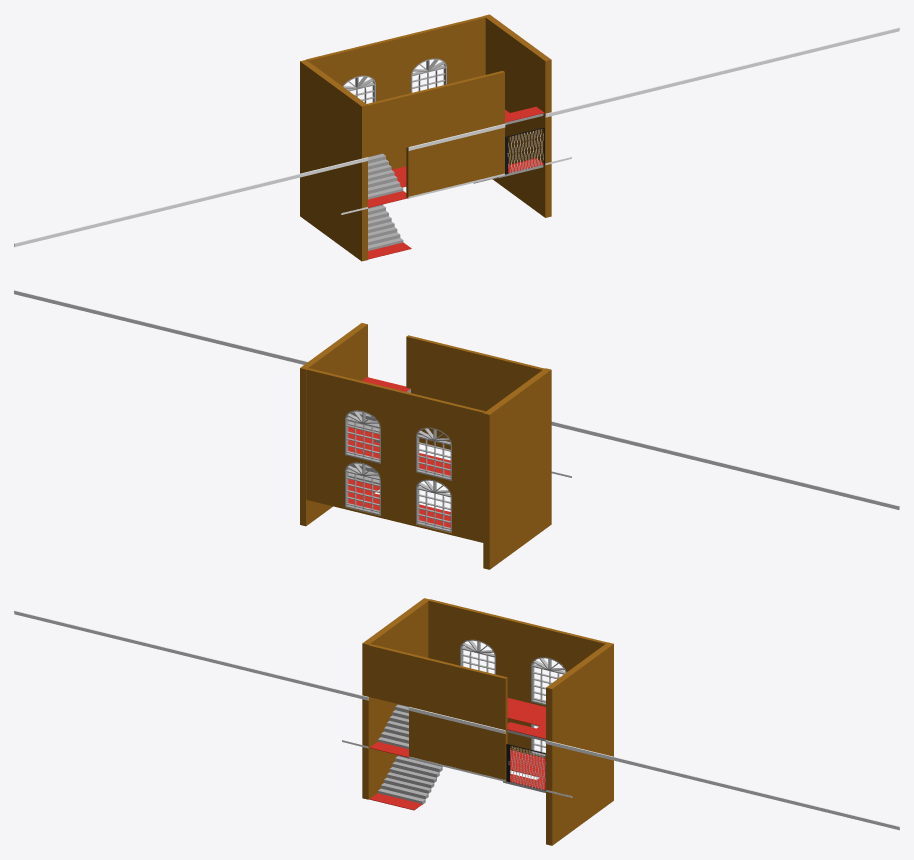
The model's file is new_5F_hallV2.fbx.
3 renders of one model, top to bottom at view 1: azimuth 30°, elevation 25°; view 2: azimuth 150°, elevation 25°; view 3: azimuth 330°, elevation 25°, orthographic.
Visible parts, largest first — view 1: S_wall2, S_wall1, LH_middlewall5.001, S_windowframe, LH_middlewall5, LH_woodup1, LH_woodup2, Stair2.001, Stair2, IB_ironbar.001, S_window2; view 2: S_wall2, S_windowframe, S_windowframe.001, LH_middlewall5.001, S_wall1, LH_woodup2, LH_woodup1, S_window1.001, S_window1, S_window2, S_window2.001, S_floor.001 (+2 smaller); view 3: S_wall1, S_windowframe, LH_middlewall5.001, S_wall2, LH_middlewall5, Stair2.001, LH_woodup1, LH_woodup2, Stair2, S_floor, IB_ironbar.001, S_window2 (+3 smaller).
Part boxes in pixels (<box>): S_wall2: <box>300,60,367,261</box>; S_wall1: <box>484,14,551,217</box>; LH_middlewall5.001: <box>367,70,504,156</box>; S_windowframe: <box>306,16,485,101</box>; LH_middlewall5: <box>406,127,504,198</box>; LH_woodup1: <box>545,27,899,117</box>; LH_woodup2: <box>14,157,368,247</box>; Stair2.001: <box>368,204,403,250</box>; Stair2: <box>368,153,403,199</box>; IB_ironbar.001: <box>508,128,544,172</box>; S_window2: <box>411,58,446,92</box>; S_wall2: <box>483,368,551,569</box>; S_windowframe: <box>306,368,485,490</box>; S_windowframe.001: <box>306,447,483,542</box>; LH_middlewall5.001: <box>406,335,544,408</box>; S_wall1: <box>300,323,367,526</box>; LH_woodup2: <box>551,421,899,509</box>; LH_woodup1: <box>14,290,368,377</box>; S_window1.001: <box>416,479,451,532</box>; S_window1: <box>416,427,451,480</box>; S_window2: <box>345,410,380,463</box>; S_window2.001: <box>345,462,380,515</box>; S_floor.001: <box>348,479,450,527</box>; S_wall1: <box>546,642,613,845</box>; S_windowframe: <box>428,599,607,706</box>; LH_middlewall5.001: <box>368,644,507,730</box>; S_wall2: <box>362,598,429,799</box>; LH_middlewall5: <box>409,710,507,781</box>; Stair2.001: <box>377,755,442,804</box>; LH_woodup1: <box>545,740,899,830</box>; LH_woodup2: <box>14,610,368,700</box>; Stair2: <box>377,704,408,748</box>; S_floor: <box>507,698,545,730</box>; IB_ironbar.001: <box>510,746,545,790</box>; S_window2: <box>531,657,566,705</box>.
Bounding box in the file's own units: 5040 × 853 × 616.
